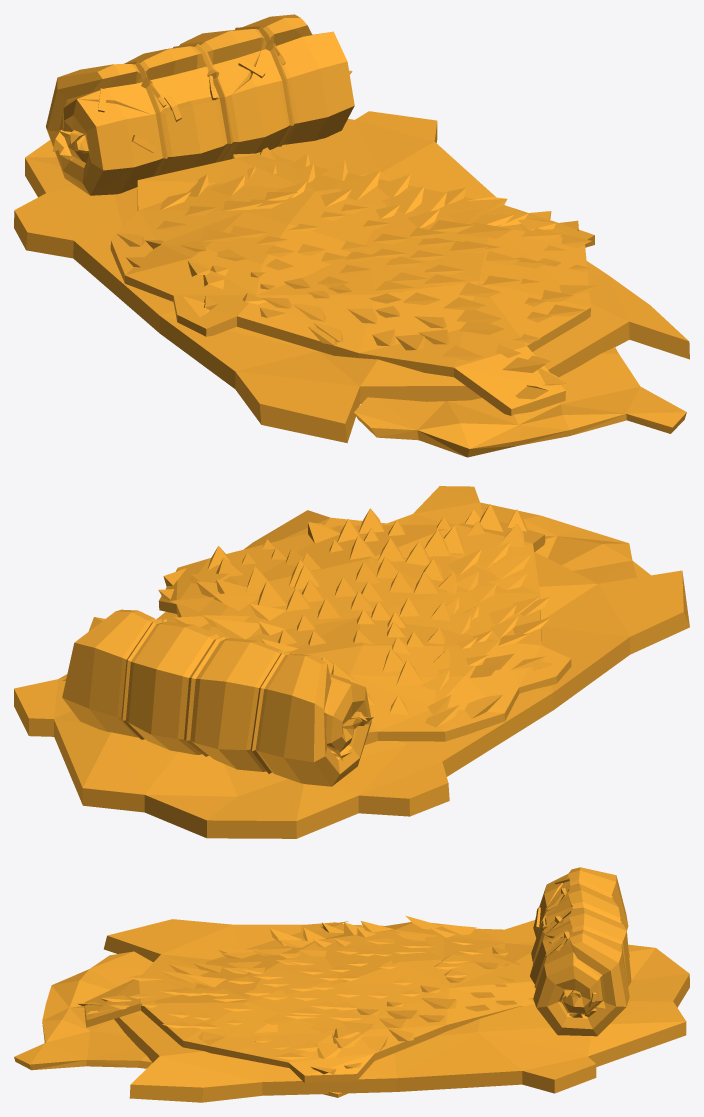
The model's file is SM_Bed_Single_Bedroll_A_Fantasy.fbx.
3 renders of one model, top to bottom at view 1: azimuth 30°, elevation 25°; view 2: azimuth 150°, elevation 25°; view 3: azimuth 270°, elevation 25°, orthographic. The views are drawn at different scales.
Visible parts, largest first — view 1: bed-single-bedroll-a-fantasy; view 2: bed-single-bedroll-a-fantasy; view 3: bed-single-bedroll-a-fantasy.
Part boxes in pixels (x1,y1,x2,y2): bed-single-bedroll-a-fantasy: [14, 14, 689, 457]; bed-single-bedroll-a-fantasy: [14, 486, 689, 838]; bed-single-bedroll-a-fantasy: [14, 867, 689, 1102].
Size of the model in its own units: 1.13 by 0.3973 by 2.
